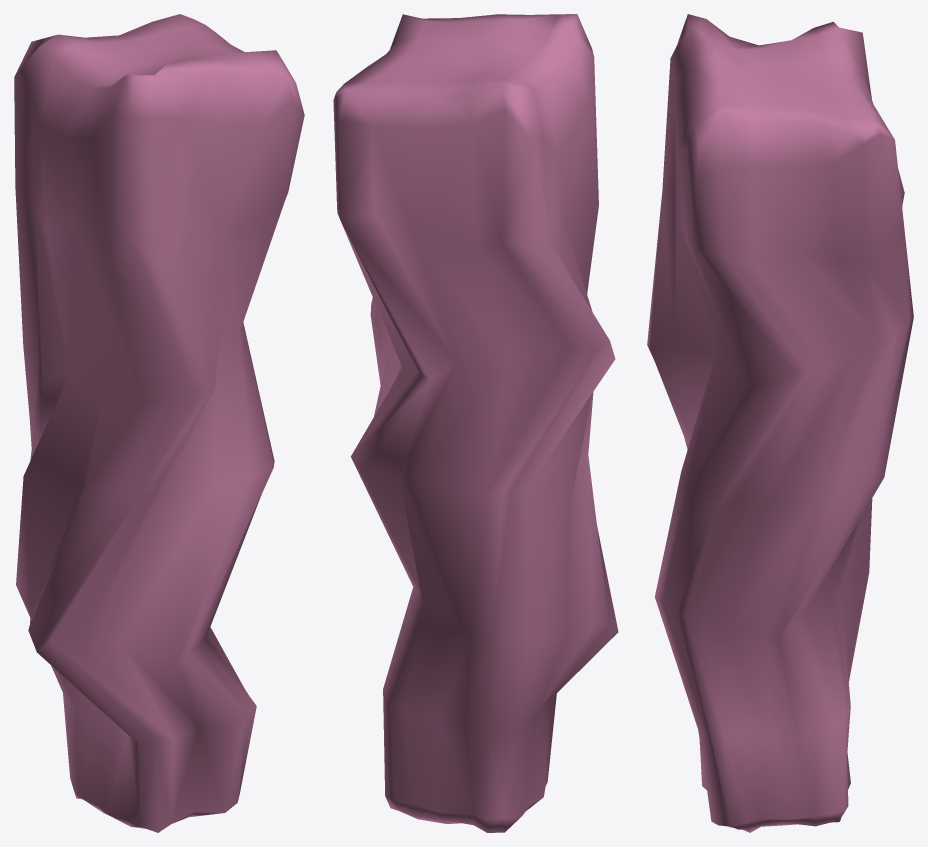
The model's file is terrain_W3A6a.fbx.
3 views of the same model, side by side, from view 1: azimuth 30°, elevation 25°; view 2: azimuth 150°, elevation 25°; view 3: azimuth 270°, elevation 25° (orthographic).
Visible parts, largest first — view 1: W3A6_a; view 2: W3A6_a; view 3: W3A6_a.
Boxes of the visible parts, left/top/right/bottom form: W3A6_a: left=14, top=14, right=304, bottom=832; W3A6_a: left=333, top=14, right=618, bottom=832; W3A6_a: left=647, top=14, right=913, bottom=832.
Bounding box in the file's own units: 2601 × 7904 × 2493.
